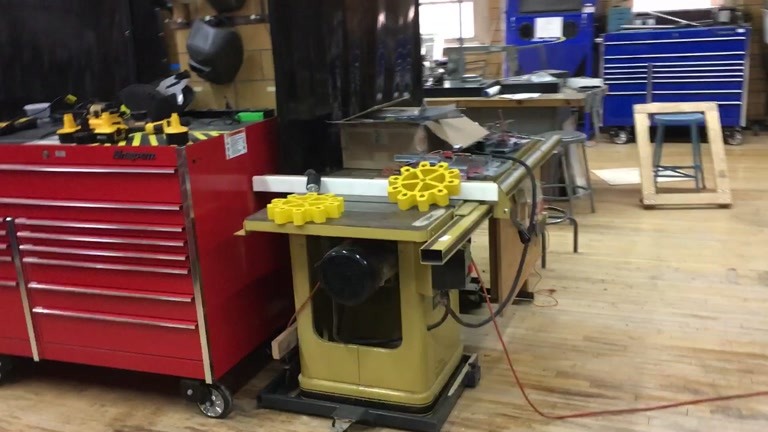gear: (385, 159, 461, 211), (267, 190, 344, 226)
